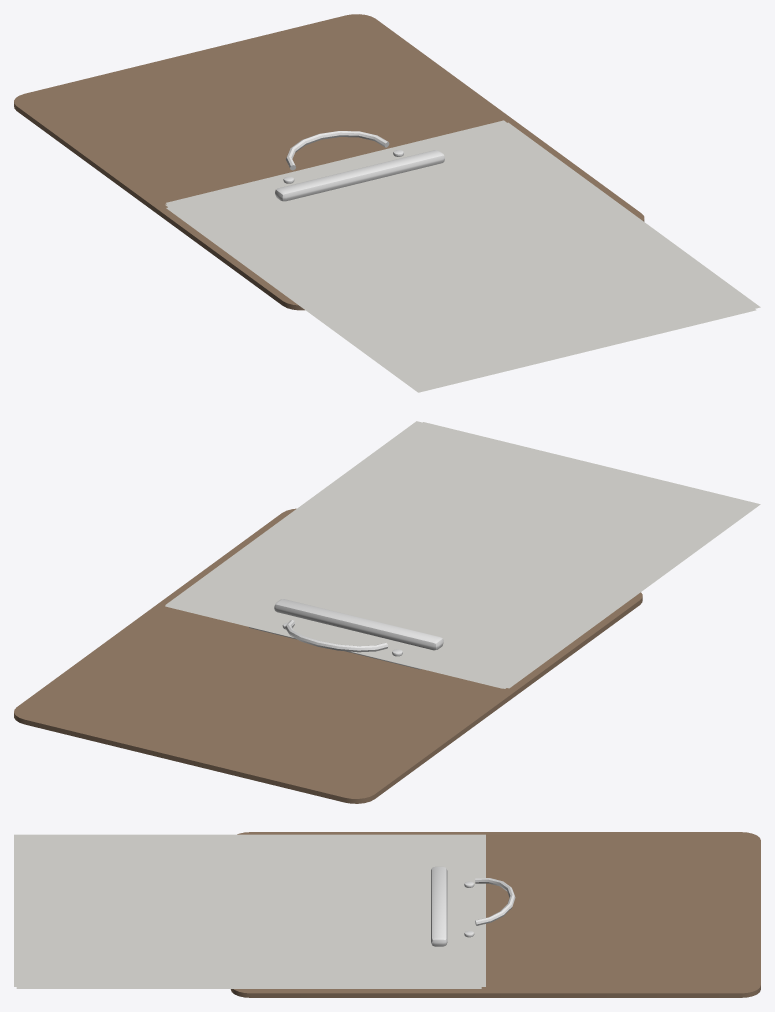
File: Kit_Clipboard.fbx
3 views of the same model, one above another, from view 1: azimuth 30°, elevation 25°; view 2: azimuth 150°, elevation 25°; view 3: azimuth 270°, elevation 25° (orthographic). The views are drawn at different scales.
Parts seen in each view (by area): view 1: Kit_Clipboard_LOD0; view 2: Kit_Clipboard_LOD0; view 3: Kit_Clipboard_LOD0.
Part boxes in pixels (box(x1,y1,x2,y2)): Kit_Clipboard_LOD0: box(14, 14, 760, 392); Kit_Clipboard_LOD0: box(14, 421, 760, 803); Kit_Clipboard_LOD0: box(14, 832, 760, 997).
Size of what is drawn, in the model's own units: 0.229 by 0.0148 by 0.448.
